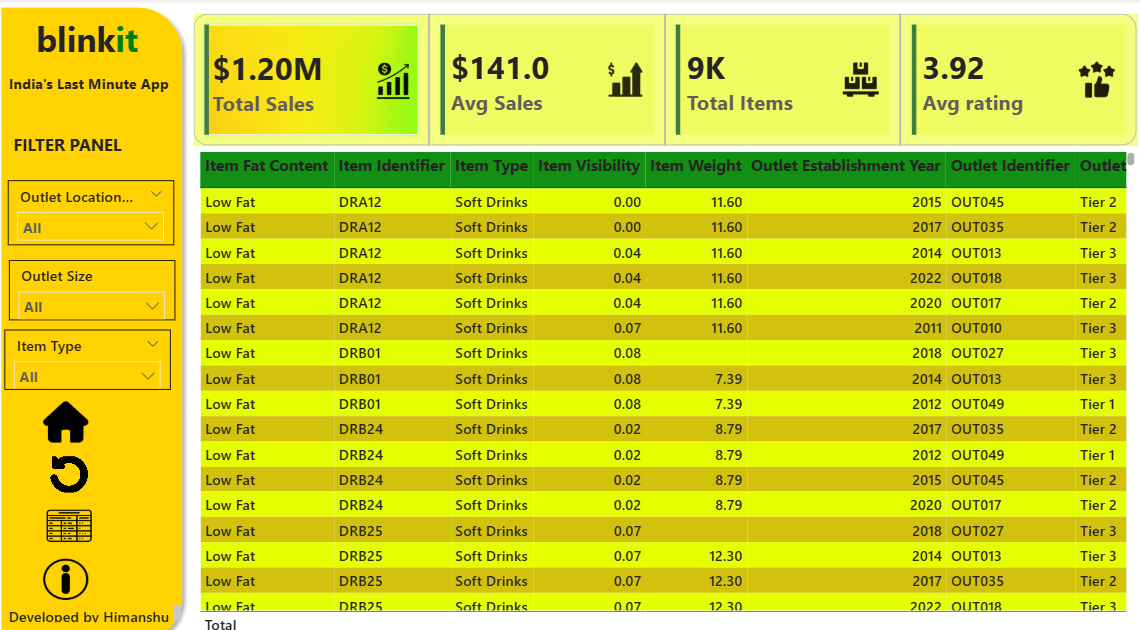

The page's visual inventory and layout, read from the dashboard file:
{"tool":"powerbi","page":{"name":"Table","canvas":[1280,720],"ordinal":1},"visuals":[{"type":"shape","box":[0,0,218.6,720.8],"z":0},{"type":"textbox","box":[32,12.8,145.4,65.5],"z":1000},{"type":"slicer","fields":{"Values":["BlinkIT Grocery Data.Outlet Location Type"]},"box":[16.6,200.6,184,71.9],"z":2000},{"type":"slicer","fields":{"Values":["BlinkIT Grocery Data.Outlet Size"]},"box":[18,289.2,184,66.4],"z":3000},{"type":"slicer","fields":{"Values":["BlinkIT Grocery Data.Item Type"]},"box":[12.5,366.6,184,66.4],"z":4000},{"type":"textbox","box":[18,142.5,178.5,40.1],"z":5000},{"type":"actionButton","box":[55.3,445.5,49.8,45.7],"z":6000},{"type":"actionButton","box":[59.5,506.4,49.8,40.1],"z":7000},{"type":"actionButton","box":[55.3,619.8,49.8,45.7],"z":8000},{"type":"textbox","box":[12.5,666.9,200.6,29.1],"z":9000},{"type":"actionButton","box":[59.5,560.3,49.8,45.7],"z":10000},{"type":"textbox","box":[12.5,77.5,189.5,42.9],"z":11000},{"type":"cardVisual","fields":{"Data":["BlinkIT Grocery Data.Total Sales","BlinkIT Grocery Data.Average Sales","BlinkIT Grocery Data.Total Items","BlinkIT Grocery Data.Avg rating"]},"box":[222.7,16.6,1046,146.7],"z":12000},{"type":"tableEx","fields":{"Values":["BlinkIT Grocery Data.Item Fat Content","BlinkIT Grocery Data.Item Identifier","BlinkIT Grocery Data.Item Type","BlinkIT Grocery Data.Item Visibility","BlinkIT Grocery Data.Item Weight","BlinkIT Grocery Data.Outlet Establishment Year","BlinkIT Grocery Data.Outlet Identifier","BlinkIT Grocery Data.Outlet Location Type","BlinkIT Grocery Data.Outlet Size","BlinkIT Grocery Data.Outlet Type","Sum(BlinkIT Grocery Data.Rating)","Sum(BlinkIT Grocery Data.Sales)"]},"box":[223,164,1046,556],"z":13000}]}

Visuals, with their boxes in screenshot pixels (x1, y1, x2, y2), scaled from the page's 1280x720 canvas onto the 1140x630 screenshot:
shape: l=0, t=0, r=195, b=629
textbox: l=28, t=11, r=158, b=69
slicer - BlinkIT Grocery Data.Outlet Location Type: l=15, t=176, r=179, b=238
slicer - BlinkIT Grocery Data.Outlet Size: l=16, t=253, r=180, b=311
slicer - BlinkIT Grocery Data.Item Type: l=11, t=321, r=175, b=379
textbox: l=16, t=125, r=175, b=160
actionButton: l=49, t=390, r=94, b=430
actionButton: l=53, t=443, r=97, b=478
actionButton: l=49, t=542, r=94, b=582
textbox: l=11, t=584, r=190, b=609
actionButton: l=53, t=490, r=97, b=530
textbox: l=11, t=68, r=180, b=105
cardVisual - BlinkIT Grocery Data.Total Sales x BlinkIT Grocery Data.Average Sales: l=198, t=15, r=1130, b=143
tableEx - BlinkIT Grocery Data.Item Fat Content x BlinkIT Grocery Data.Item Identifier: l=199, t=144, r=1130, b=629
